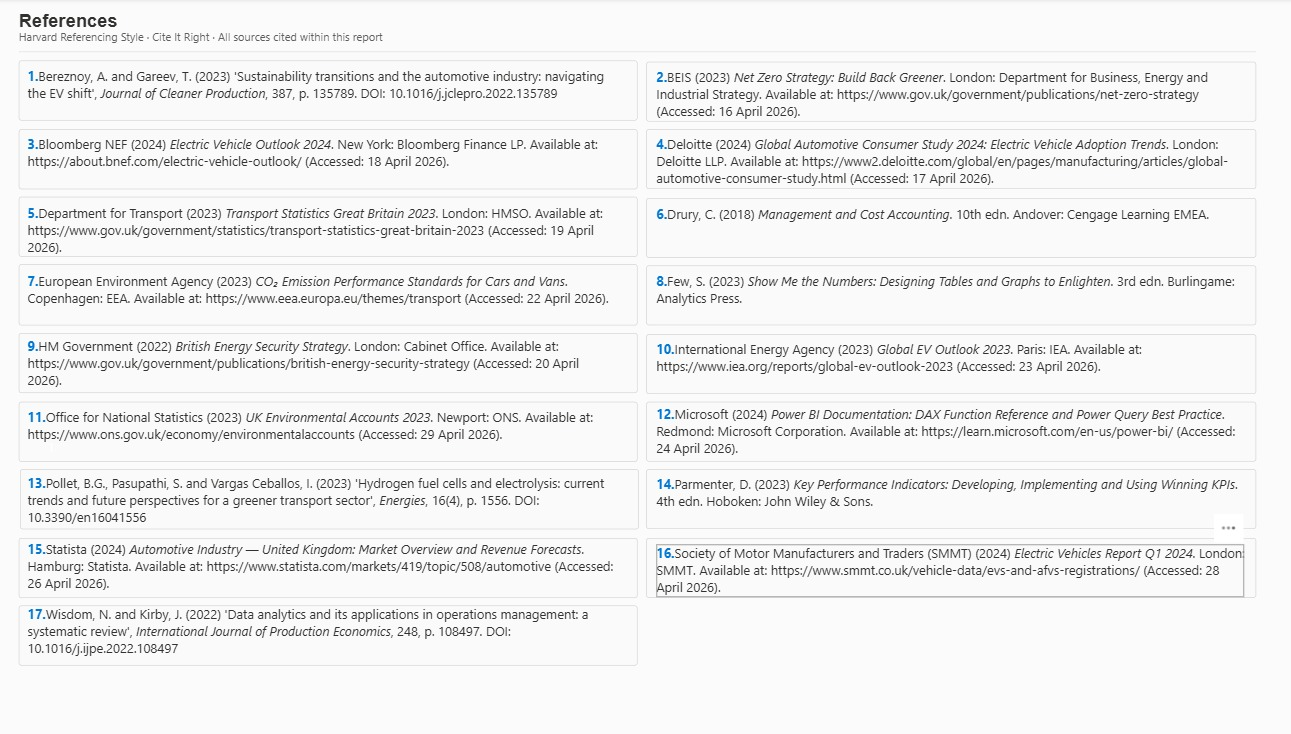

Layout of this report page (visuals, bound fields, positions):
{"tool":"powerbi","page":{"name":"References","canvas":[3840,2160],"ordinal":7},"visuals":[{"type":"shape","box":[98.1,181.6,1797.6,174.3],"z":0},{"type":"shape","box":[1921.1,185.2,1772.2,174],"z":1000},{"type":"shape","box":[98.1,381.3,1797.6,174.3],"z":2000},{"type":"shape","box":[1921.1,382.7,1772.2,174],"z":3000},{"type":"shape","box":[98.1,577.4,1797.6,174.3],"z":4000},{"type":"shape","box":[1921.1,580.2,1772.2,174],"z":5000},{"type":"shape","box":[98.1,773.5,1797.6,177.9],"z":6000},{"type":"shape","box":[1921.1,777.7,1772.2,174],"z":7000},{"type":"shape","box":[98.1,973.2,1797.6,174.3],"z":8000},{"type":"shape","box":[1921.1,975.2,1772.2,174],"z":9000},{"type":"shape","box":[1921.1,1172.7,1772.2,174],"z":11000},{"type":"shape","box":[98.1,1173,1797.6,174.3],"z":12000},{"type":"shape","box":[1921.1,1370.3,1772.2,174],"z":13000},{"type":"shape","box":[101.7,1369.1,1797.6,174.3],"z":14000},{"type":"shape","box":[1921.1,1567.8,1772.2,174],"z":15000},{"type":"shape","box":[98.1,1568.8,1797.6,174.3],"z":16000},{"type":"shape","box":[98.1,1764.9,1797.6,174.3],"z":17000},{"type":"shape","box":[98.1,127.1,3595.2,58.1],"z":18000},{"type":"textbox","box":[98.1,36.3,1350.9,79.9],"z":19000},{"type":"textbox","box":[98.1,90.8,1503.4,50.8],"z":20000},{"type":"textbox","box":[181.6,1278.3,145.3,105.3],"z":21000},{"type":"textbox","box":[123.5,199.7,1710.4,156.2],"z":22000},{"type":"textbox","box":[123.5,399.5,1710.4,156.2],"z":23000},{"type":"textbox","box":[123.5,599.2,1710.4,156.2],"z":24000},{"type":"textbox","box":[123.5,795.3,1710.4,156.2],"z":25000},{"type":"textbox","box":[123.5,984.1,1710.4,156.2],"z":26000},{"type":"textbox","box":[123.5,1191.1,1710.4,156.2],"z":28000},{"type":"textbox","box":[123.5,1383.6,1710.4,156.2],"z":29000},{"type":"textbox","box":[123.5,1576.1,1710.4,156.2],"z":30000},{"type":"textbox","box":[1950.1,203.4,1710.4,156.2],"z":31000},{"type":"textbox","box":[1950.1,399.5,1710.4,156.2],"z":32000},{"type":"textbox","box":[1950.1,602.8,1710.4,156.2],"z":33000},{"type":"textbox","box":[1950.1,795.3,1710.4,156.2],"z":34000},{"type":"textbox","box":[1950.1,995,1710.4,156.2],"z":35000},{"type":"textbox","box":[1950.1,1183.9,1710.4,156.2],"z":36000},{"type":"textbox","box":[1950.1,1387.2,1710.4,156.2],"z":37000},{"type":"textbox","box":[1950.1,1587,1710.4,156.2],"z":38000},{"type":"textbox","box":[123.5,1764.9,1710.4,156.2],"z":39000}]}

Visuals, with their boxes in screenshot pixels (x1, y1, x2, y2), scaled from the page's 3840x2160 canvas onto the 1291x734 screenshot:
shape: [33, 62, 637, 121]
shape: [646, 63, 1242, 122]
shape: [33, 130, 637, 189]
shape: [646, 130, 1242, 189]
shape: [33, 196, 637, 255]
shape: [646, 197, 1242, 256]
shape: [33, 263, 637, 323]
shape: [646, 264, 1242, 323]
shape: [33, 331, 637, 390]
shape: [646, 331, 1242, 391]
shape: [646, 399, 1242, 458]
shape: [33, 399, 637, 458]
shape: [646, 466, 1242, 525]
shape: [34, 465, 639, 524]
shape: [646, 533, 1242, 592]
shape: [33, 533, 637, 592]
shape: [33, 600, 637, 659]
shape: [33, 43, 1242, 63]
textbox: [33, 12, 487, 39]
textbox: [33, 31, 538, 48]
textbox: [61, 434, 110, 470]
textbox: [42, 68, 617, 121]
textbox: [42, 136, 617, 189]
textbox: [42, 204, 617, 257]
textbox: [42, 270, 617, 323]
textbox: [42, 334, 617, 387]
textbox: [42, 405, 617, 458]
textbox: [42, 470, 617, 523]
textbox: [42, 536, 617, 589]
textbox: [656, 69, 1231, 122]
textbox: [656, 136, 1231, 189]
textbox: [656, 205, 1231, 258]
textbox: [656, 270, 1231, 323]
textbox: [656, 338, 1231, 391]
textbox: [656, 402, 1231, 455]
textbox: [656, 471, 1231, 524]
textbox: [656, 539, 1231, 592]
textbox: [42, 600, 617, 653]
